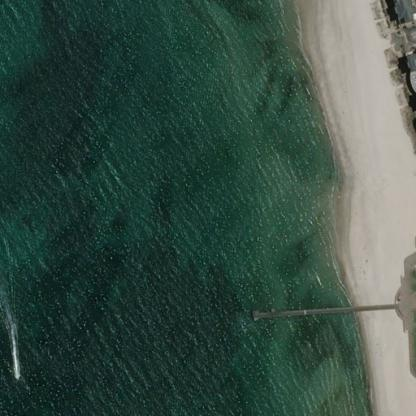ship: (14, 374, 18, 380)
